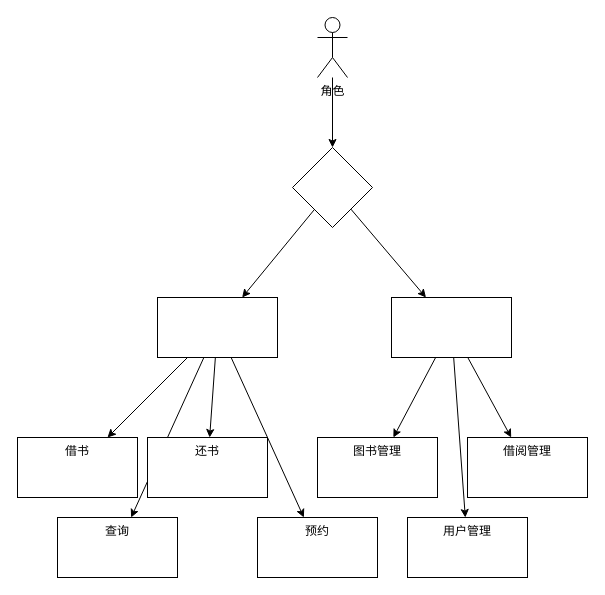
Image size: 605x595. Some labels were removed from this diagram. Here are the shapes that lost their labels. From the top down, the centre of each, then its label:
At [332,187]: "登陆验证".
At [217,327]: "用户".
At [451,327]: "管理员".
